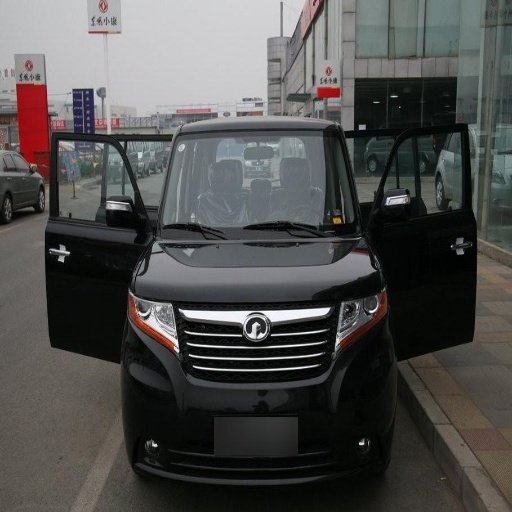front_bumper: (125, 302, 396, 488)
front_right_light: (130, 289, 177, 346)
hood: (135, 238, 380, 308)
